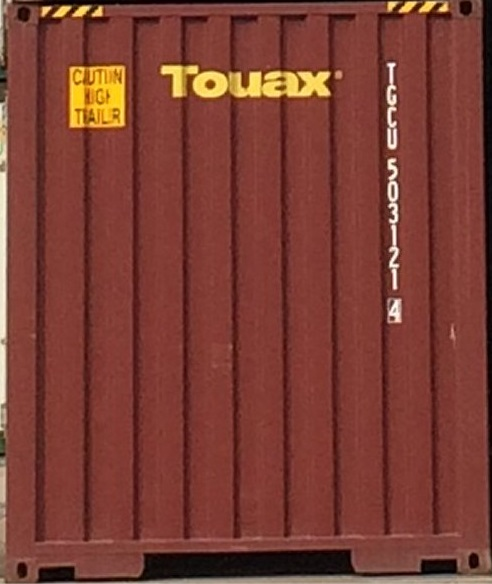container_no_door: (11, 1, 479, 584)
